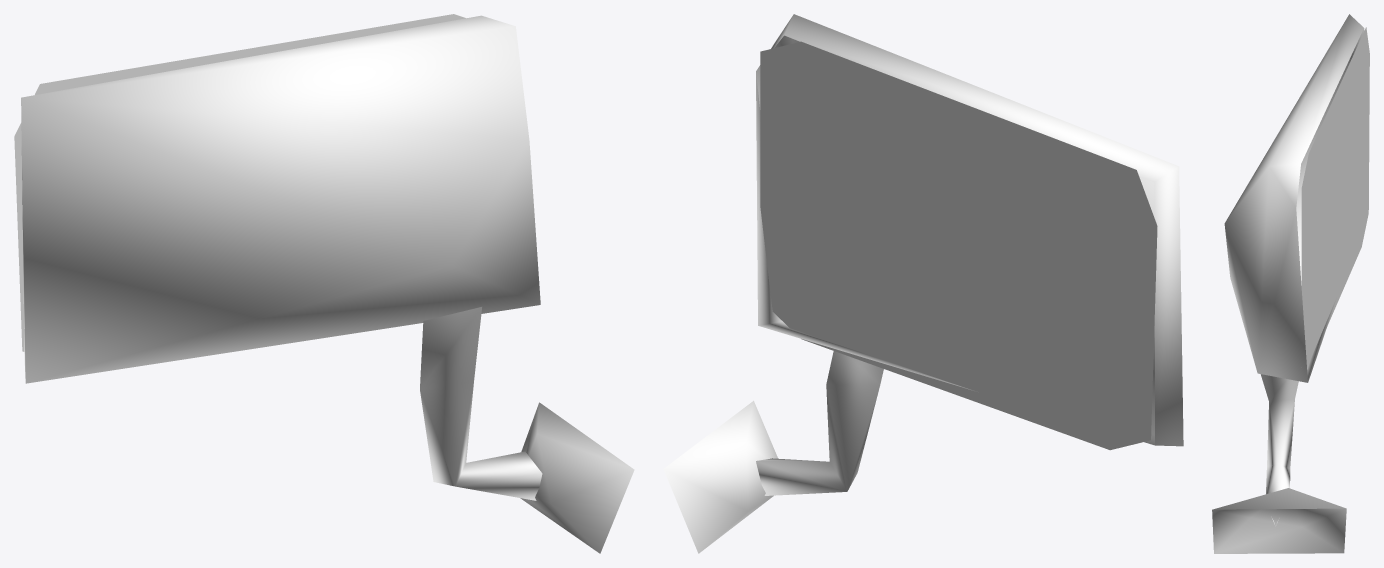
3 views of the same model, side by side, from view 1: azimuth 30°, elevation 25°; view 2: azimuth 150°, elevation 25°; view 3: azimuth 270°, elevation 25° (orthographic). The views are drawn at different scales.
Size of the model in its own units: 0.1482 by 0.1398 by 0.0538.
Materials: 1 (1 with a texture image).
